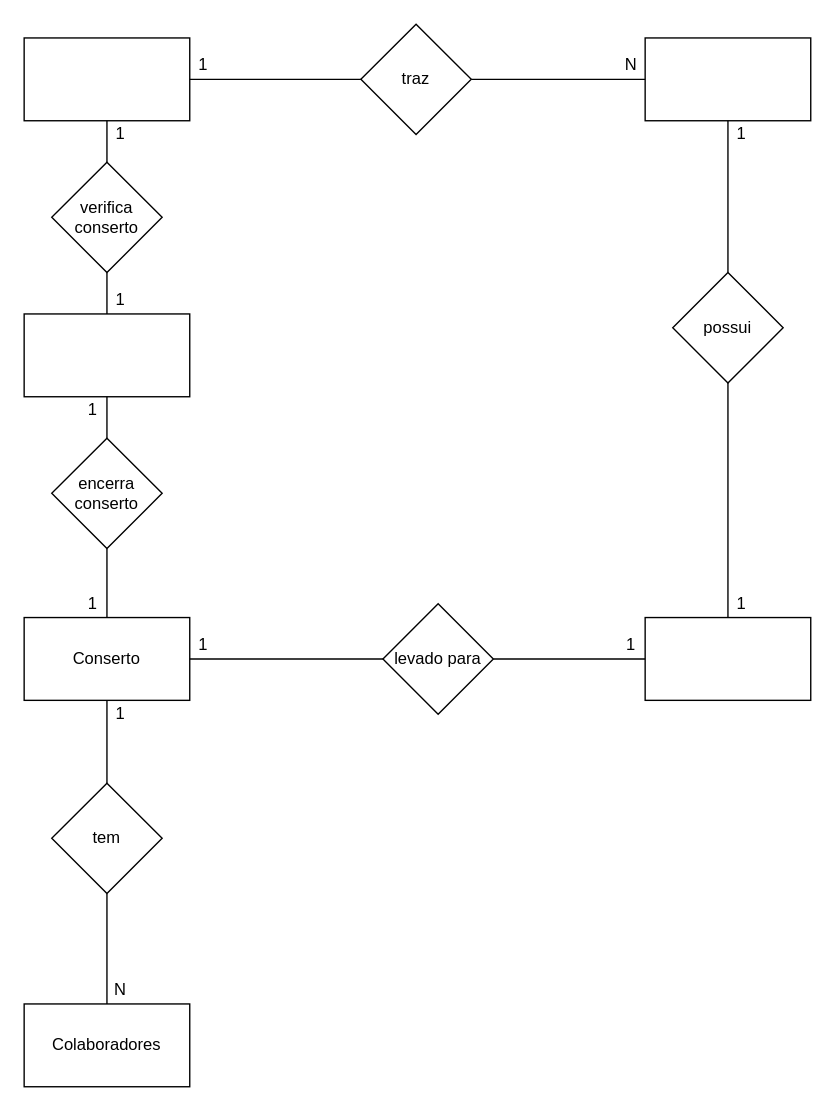
The diagram is 835 pixels wide and 1111 high, and some of its shapes have lost their labels. The shapes that lost their labels are listed below. From the top down, each one's centre as x and y in pixels, then its label:
At point (106, 79): "Cliente".
At point (727, 79): "Aparelho Eletronico".
At point (106, 355): "Status do Conserto Online".
At point (727, 658): "Categoria do Aparelho".
